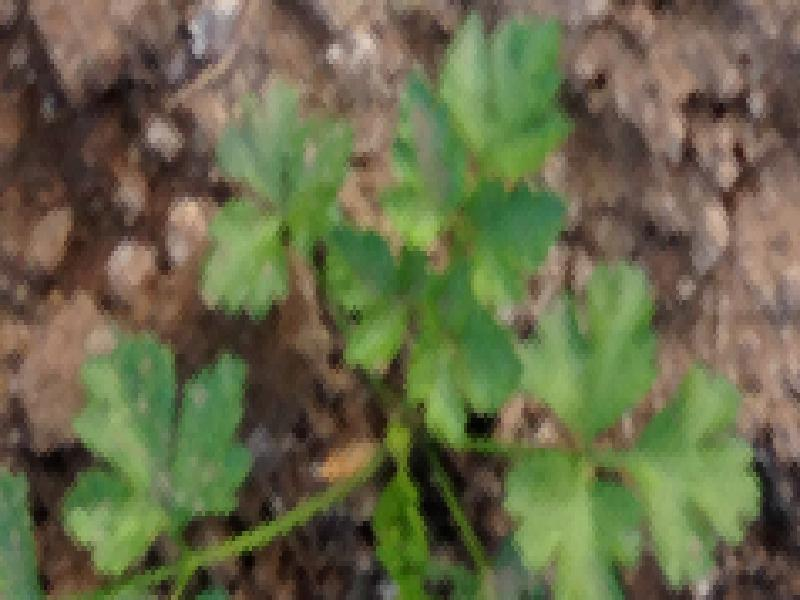radish: (167, 42, 734, 599)
